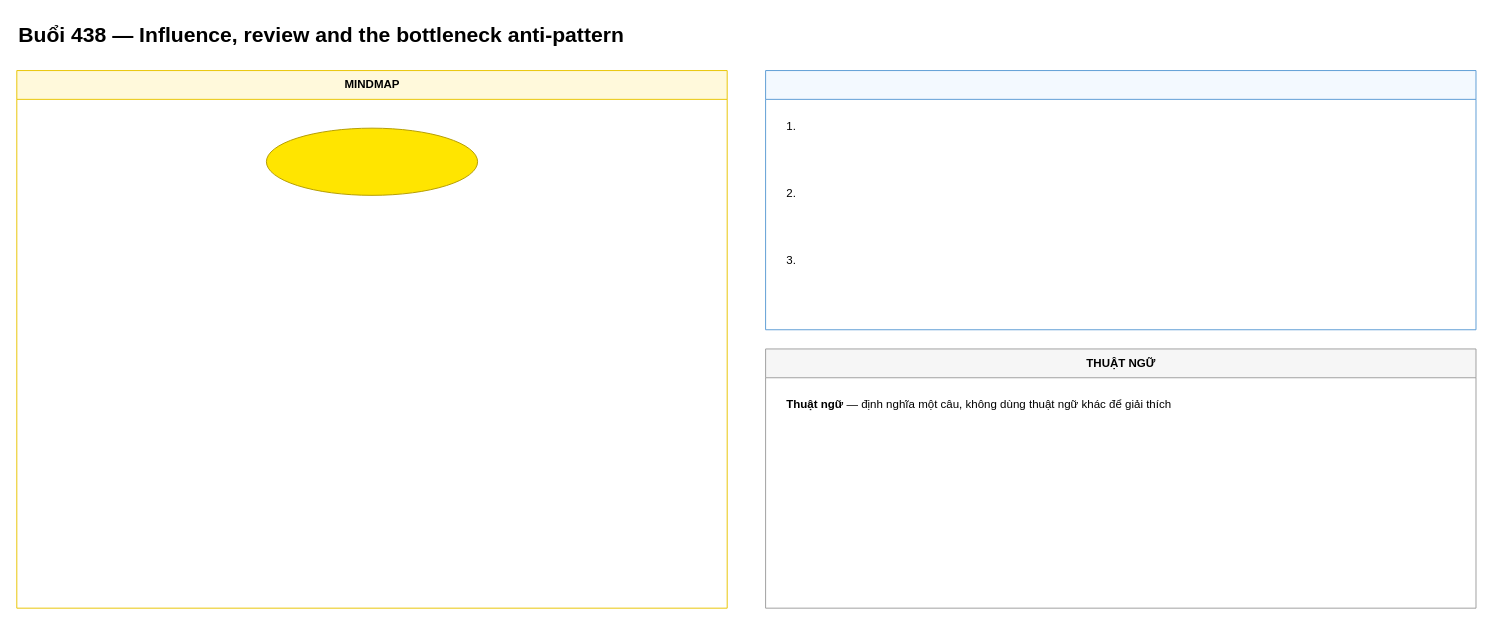
This 1493x625 diagram has some shape labels left out. Each missing label, with the box of its shape:
Influence, review and the bottleneck anti-pattern: (265, 127, 478, 195)
KEY TAKEAWAY — ba điều phải nhớ: (765, 70, 1476, 330)
